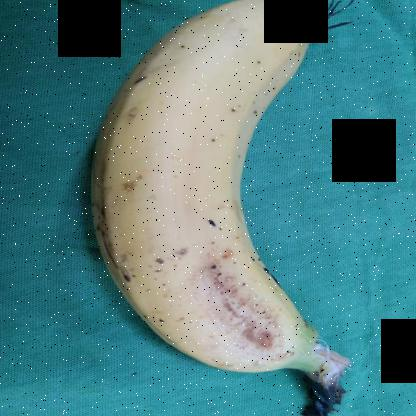ripe: (73, 0, 356, 380)
